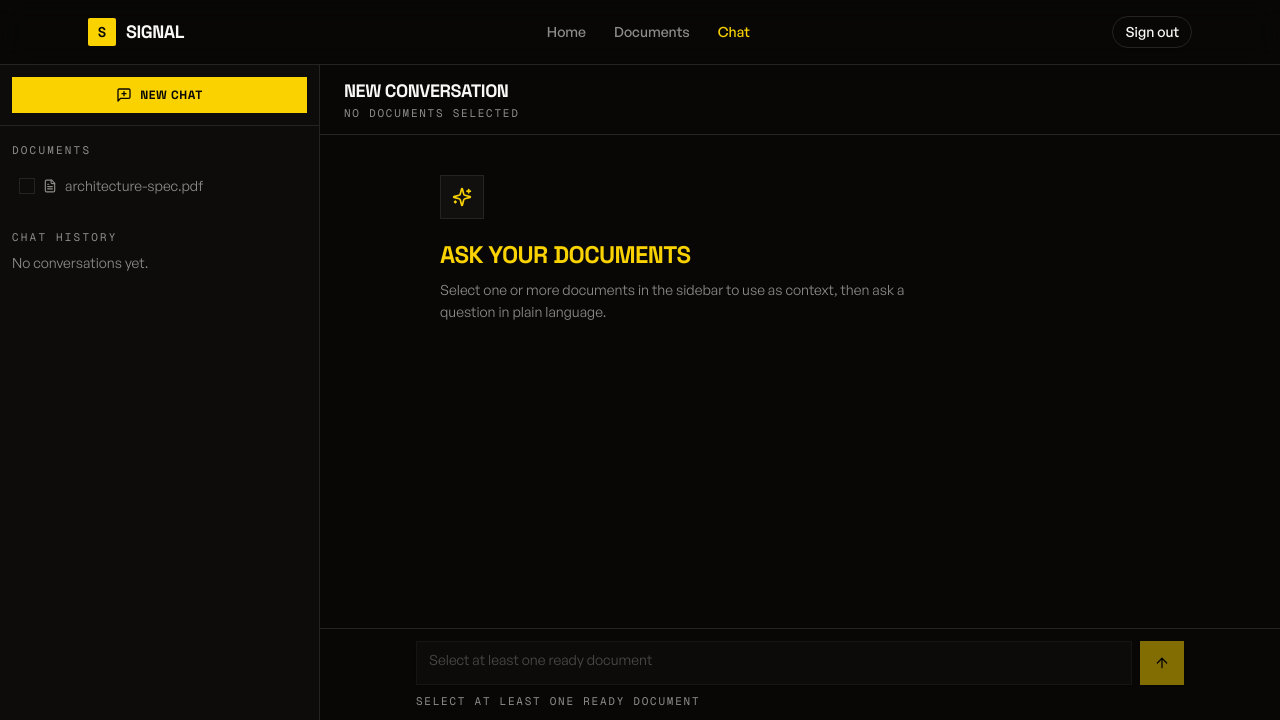
chat workspace › shows the explicit not-found answer instead of inventing one
Step 1. Click the button with test id "chat.document_toggle.1" → {"x": 160, "y": 186}, box [8, 166, 311, 204]
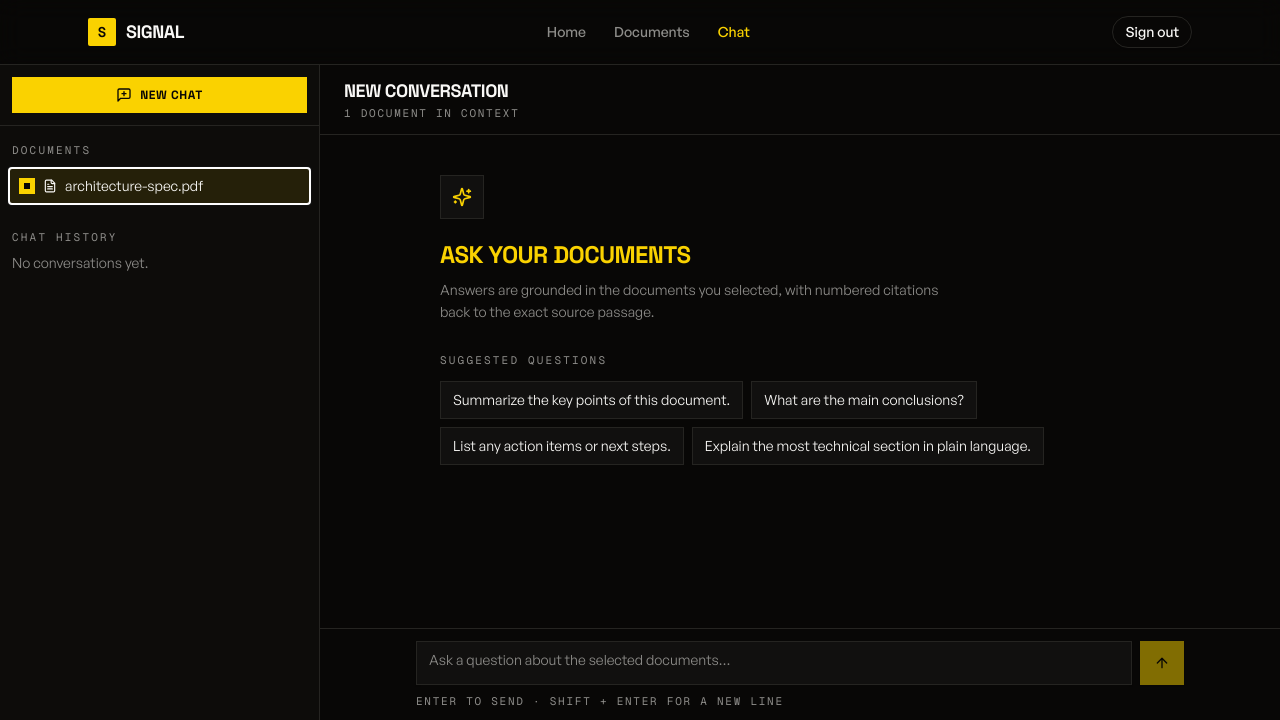
Step 2. Type "What is the refund policy?" into the text box with test id "chat.input" → {"x": 774, "y": 662}, box [416, 640, 1132, 684]
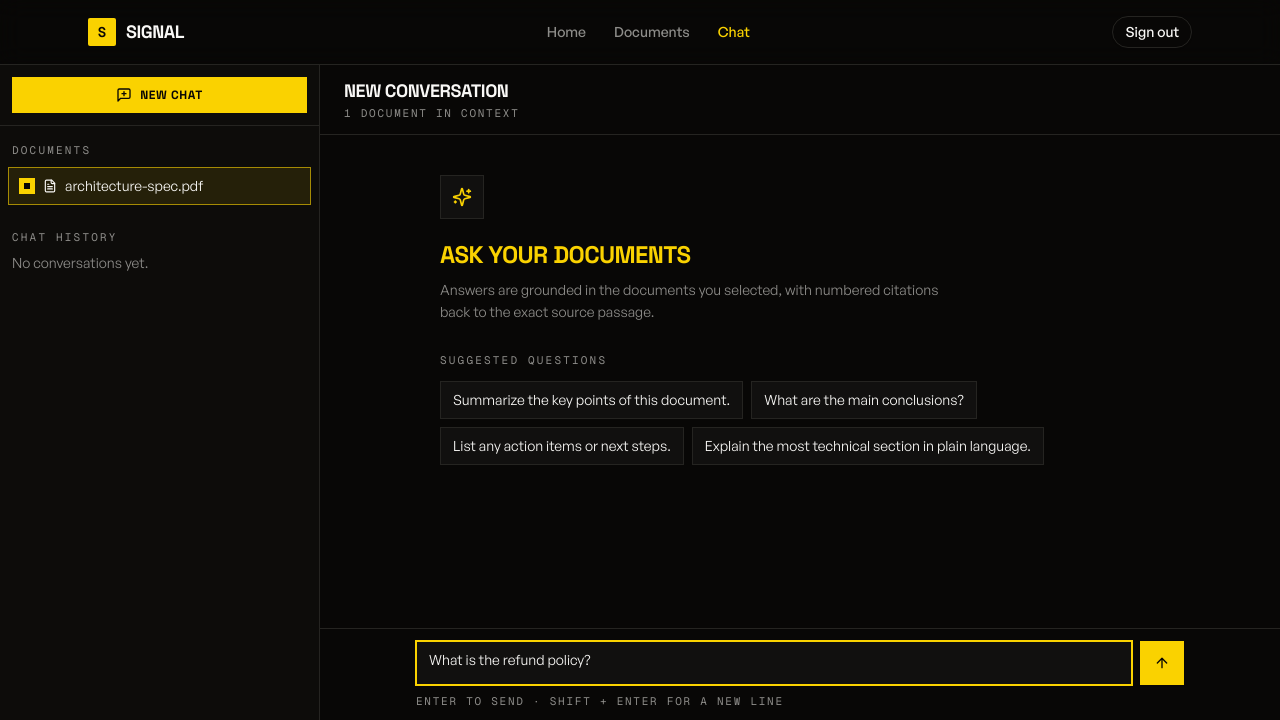
Step 3. Click the button with test id "chat.send_button" → {"x": 1162, "y": 662}, box [1140, 640, 1184, 684]
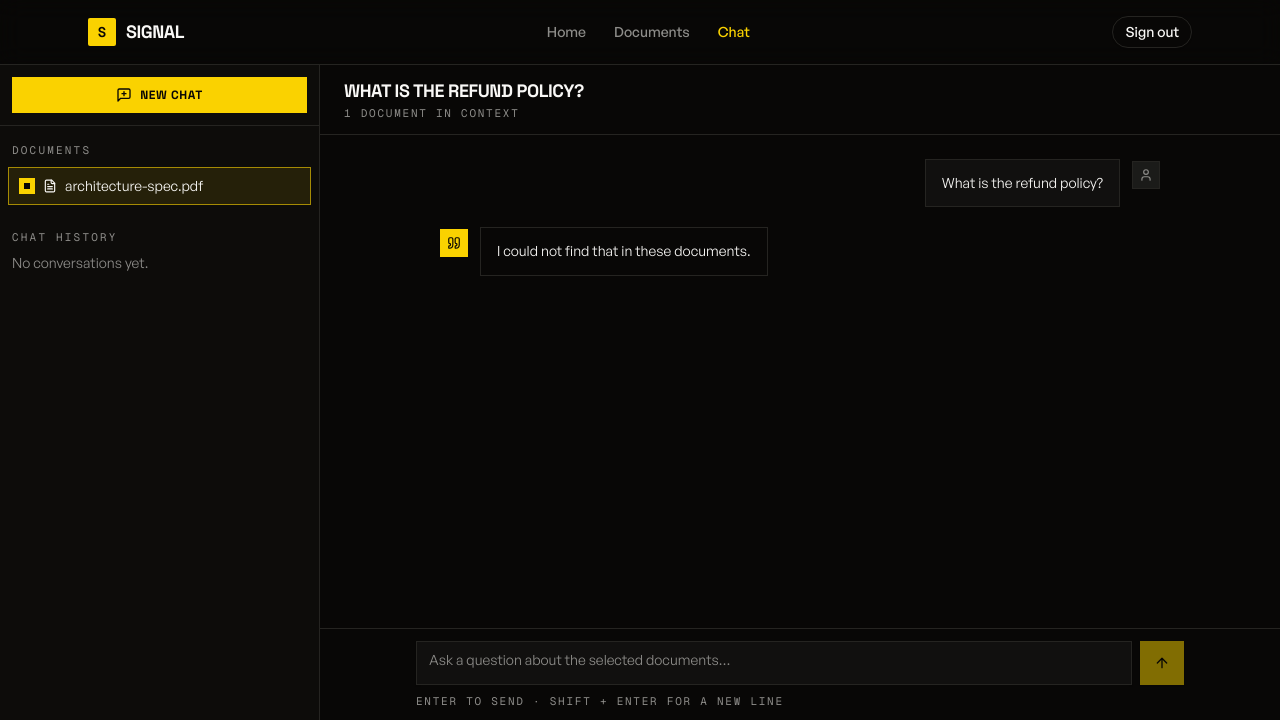
Now the text "I could not find that in these documents." is shown, box [497, 240, 751, 263]
